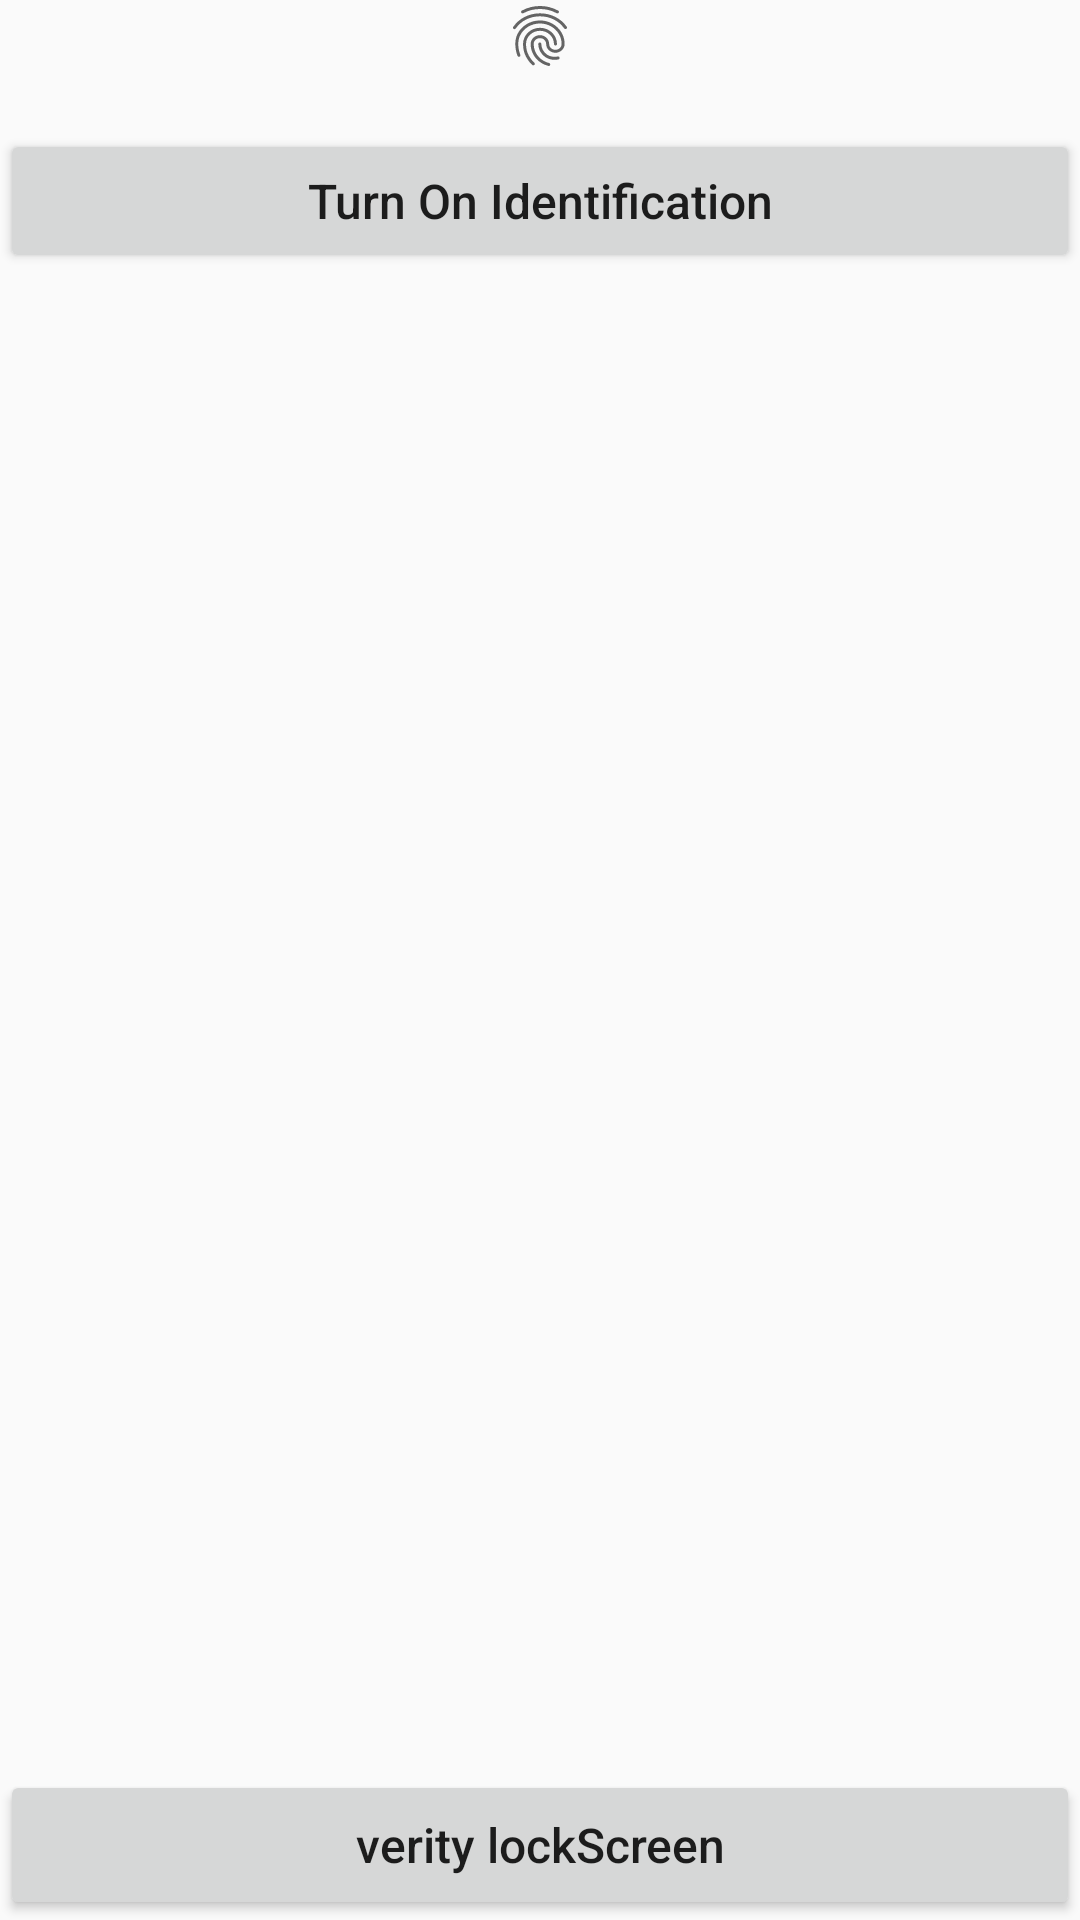

Named icons in this screenshot (1080*1920) and their centers, [x,y]:
fingerprint: [540,36]
